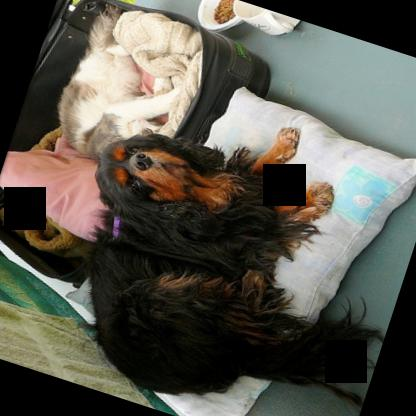suitcase: (0, 0, 268, 285)
